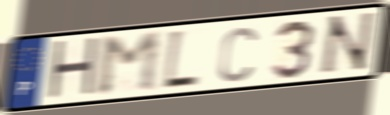3: (268, 17, 316, 81)
C: (216, 25, 259, 85)
H: (44, 35, 101, 104)
L: (160, 28, 201, 93)
M: (95, 29, 163, 98)
N: (315, 10, 378, 78)
